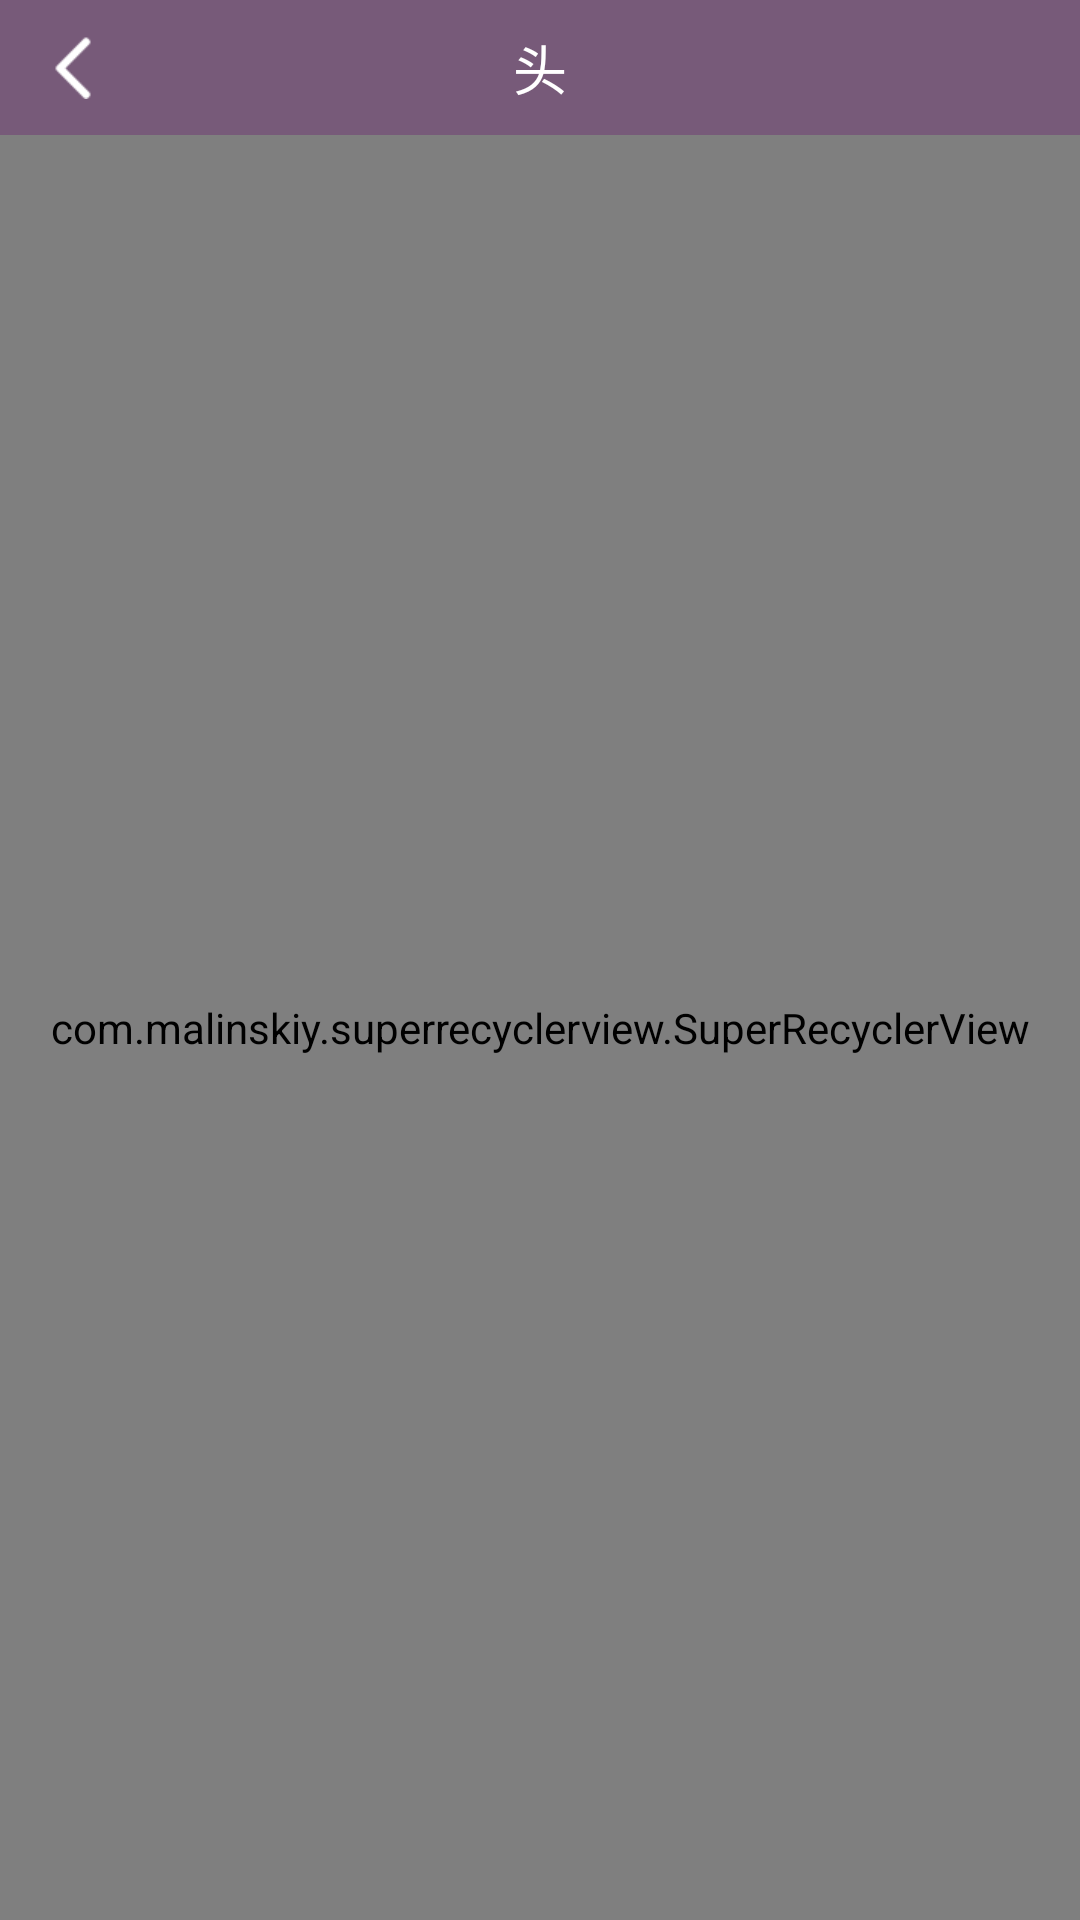

Icon click points for this 1080*1920 phone screenshot, format (x,y):
arrow left: (73,68)
